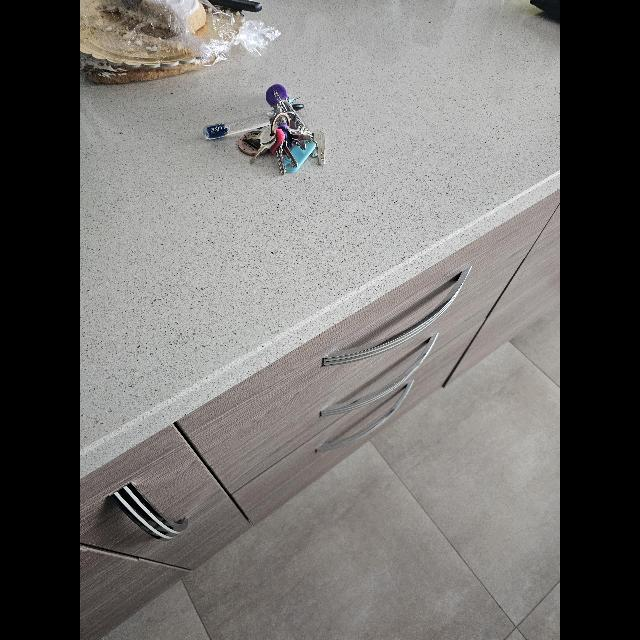Keys: (206, 85, 326, 175)
